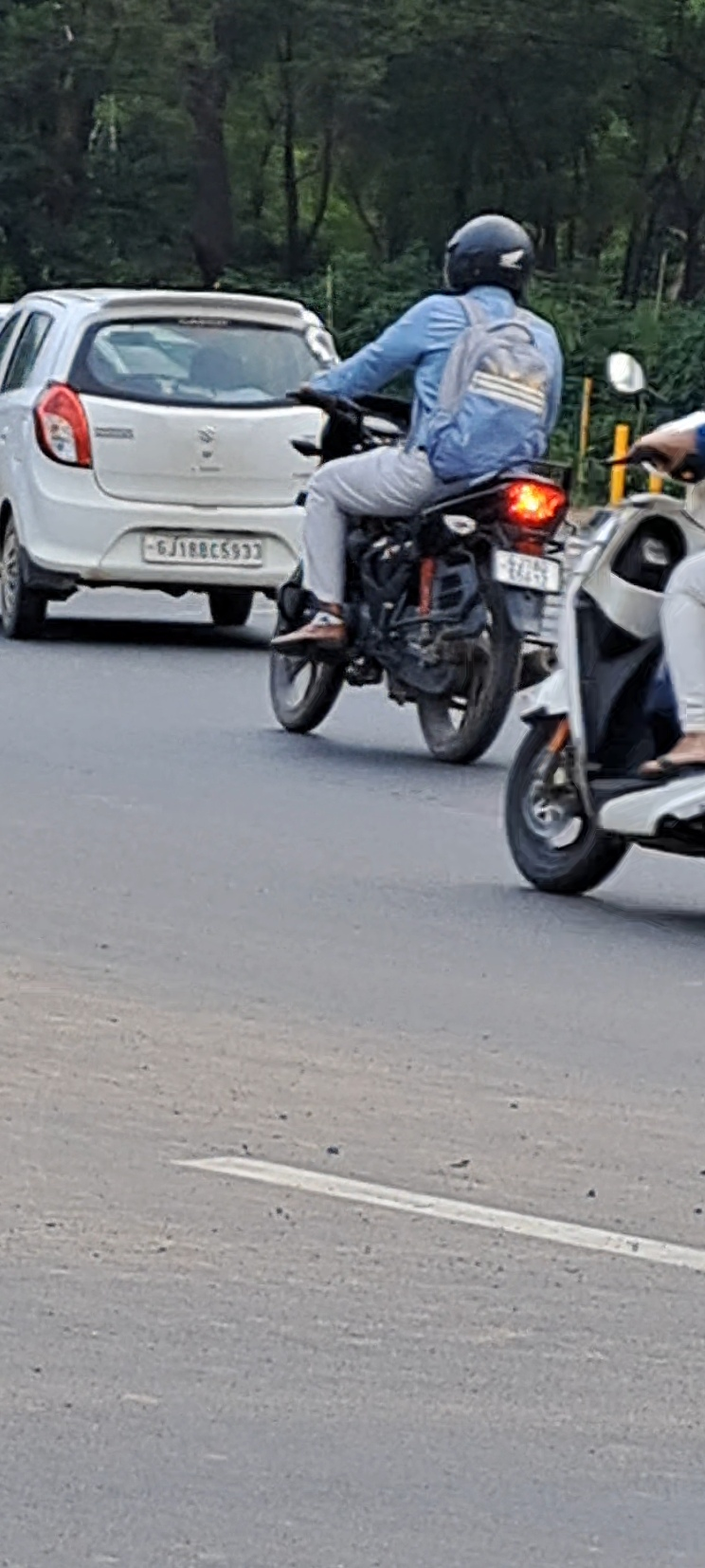BikeWithRider: (251, 197, 590, 777)
Helmet: (427, 201, 547, 309)
